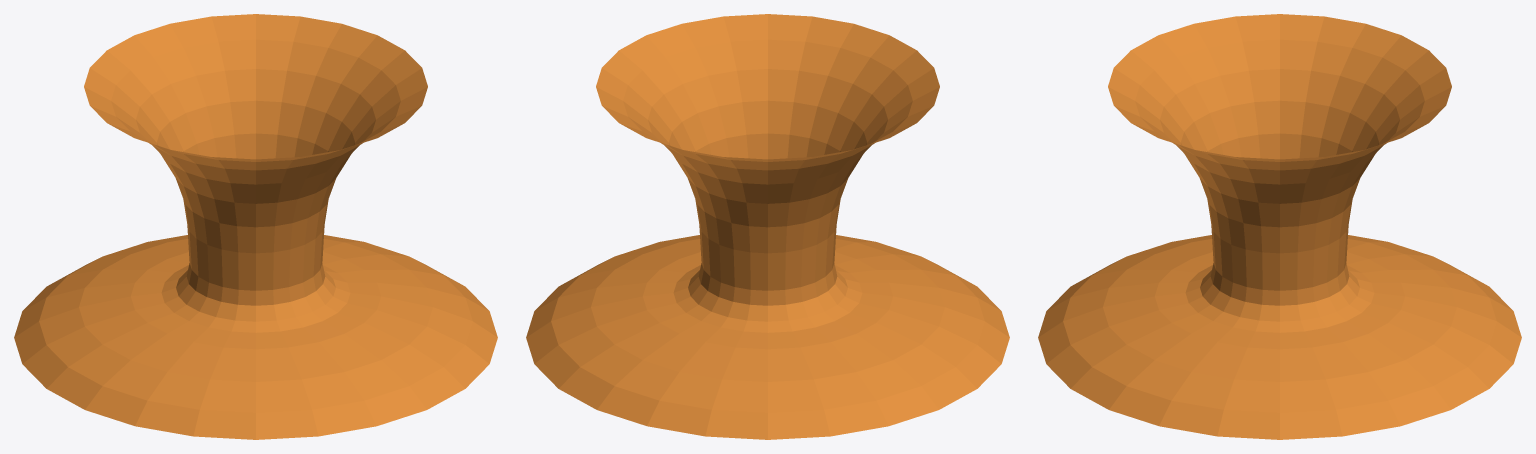
The model's file is SM_PCPied.FBX.
3 views of the same model, side by side, from view 1: azimuth 30°, elevation 25°; view 2: azimuth 150°, elevation 25°; view 3: azimuth 270°, elevation 25° (orthographic).
Parts seen in each view (by area): view 1: pc_pied; view 2: pc_pied; view 3: pc_pied.
Boxes of the visible parts, x1,y1,x2,y2 form: pc_pied: (14,14,497,439); pc_pied: (526,14,1009,439); pc_pied: (1038,14,1521,439).
Size of the model in its own units: 189 by 108 by 189.
